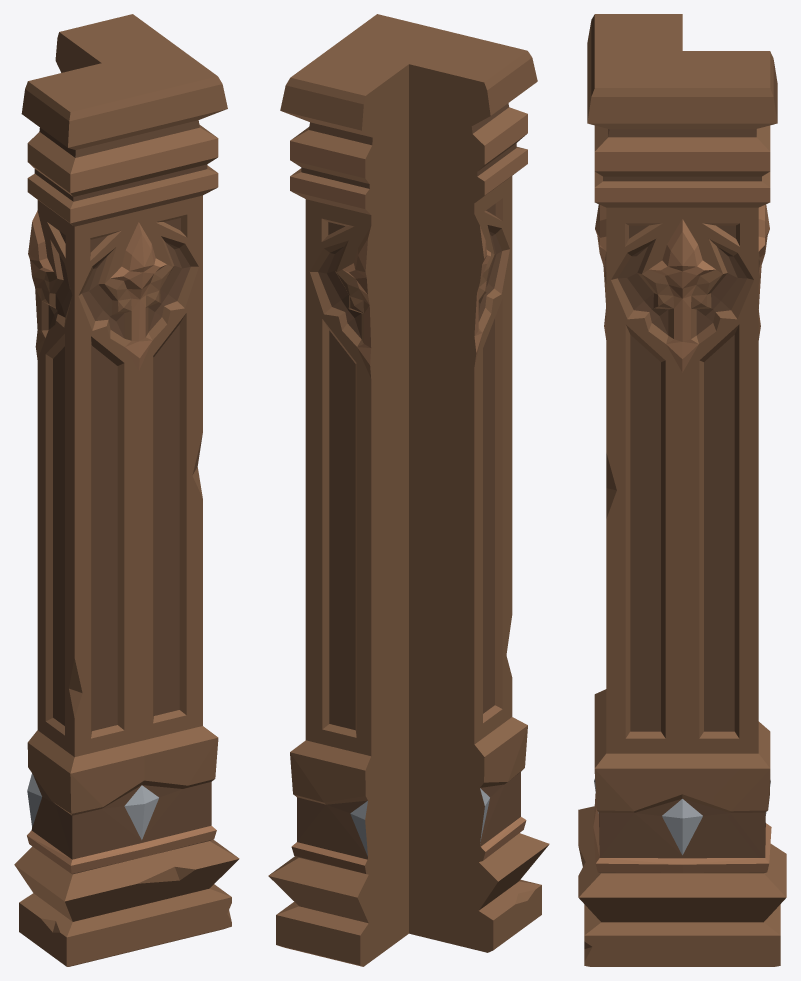
The model's file is elven_SM_Bld_Pillar_02_Corner.gltf.
3 views of the same model, side by side, from view 1: azimuth 30°, elevation 25°; view 2: azimuth 150°, elevation 25°; view 3: azimuth 270°, elevation 25° (orthographic). The views are drawn at different scales.
Visible parts, largest first — view 1: SM_Bld_Pillar_02_Corner; view 2: SM_Bld_Pillar_02_Corner; view 3: SM_Bld_Pillar_02_Corner.
Part boxes in pixels (left/top/right/bottom): SM_Bld_Pillar_02_Corner: left=14, top=14, right=239, bottom=966; SM_Bld_Pillar_02_Corner: left=268, top=14, right=549, bottom=966; SM_Bld_Pillar_02_Corner: left=578, top=14, right=786, bottom=966.
Bounding box in the file's own units: 0.6462 × 3.01 × 0.6462.
Materials: 1 (1 with a texture image).
